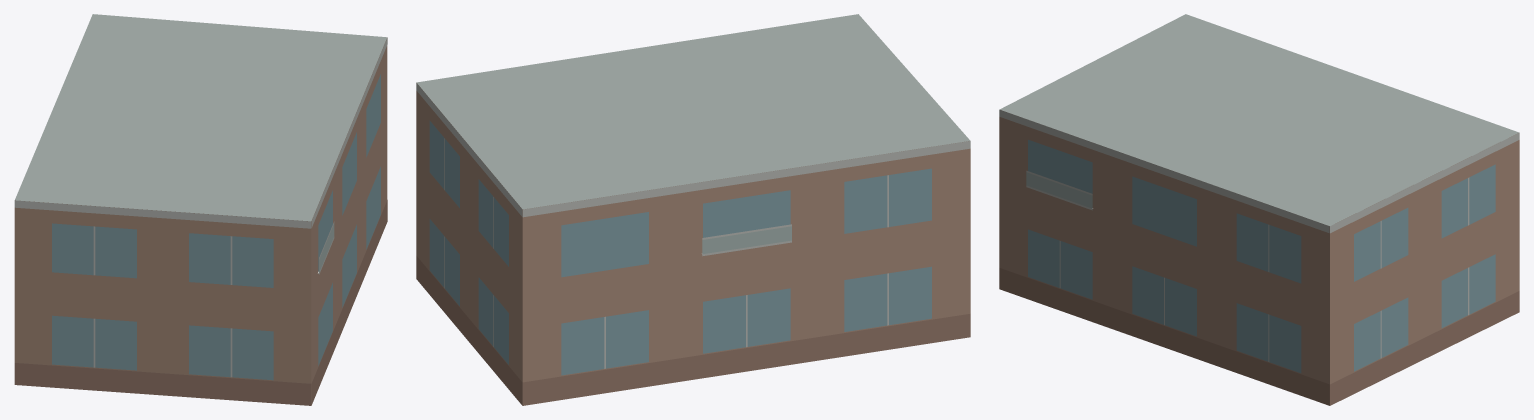
The model's file is survey-upis-32891044.glb.
3 renders of one model, left to right at view 1: azimuth 30°, elevation 25°; view 2: azimuth 150°, elevation 25°; view 3: azimuth 270°, elevation 25°, orthographic. The views are drawn at different scales.
Parts seen in each view (by area): view 1: survey-upis-32891044.tmp; view 2: survey-upis-32891044.tmp; view 3: survey-upis-32891044.tmp.
Boxes of the visible parts, x1,y1,x2,y2 form: survey-upis-32891044.tmp: (14, 14, 387, 405); survey-upis-32891044.tmp: (416, 14, 970, 405); survey-upis-32891044.tmp: (999, 14, 1519, 405).
Bounding box in the file's own units: 15.47 × 6.1 × 16.01.
